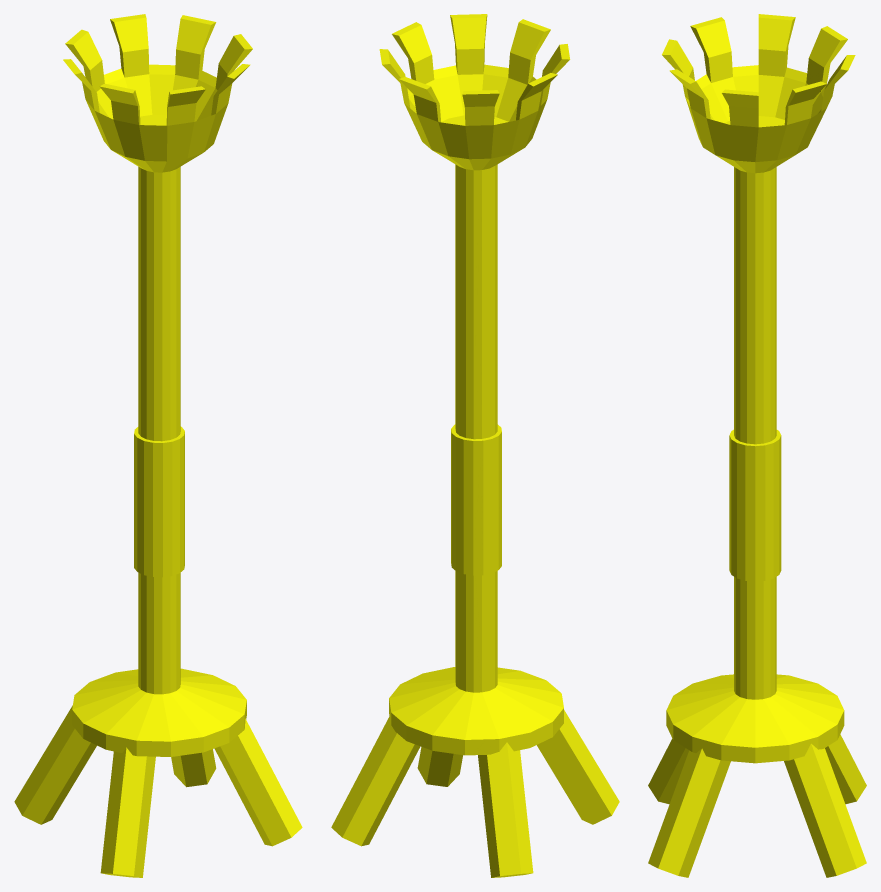
Rendered from LightFloorTorch.glb.
3 renders of one model, left to right at view 1: azimuth 30°, elevation 25°; view 2: azimuth 150°, elevation 25°; view 3: azimuth 270°, elevation 25°, orthographic.
Parts seen in each view (by area): view 1: Torch Floor; view 2: Torch Floor; view 3: Torch Floor.
Boxes of the visible parts, x1,y1,x2,y2 form: Torch Floor: [14, 14, 302, 877]; Torch Floor: [331, 14, 619, 877]; Torch Floor: [648, 14, 866, 877].
Size of the model in its own units: 0.4251 by 1.63 by 0.4115.
1 material, 1 textured.
